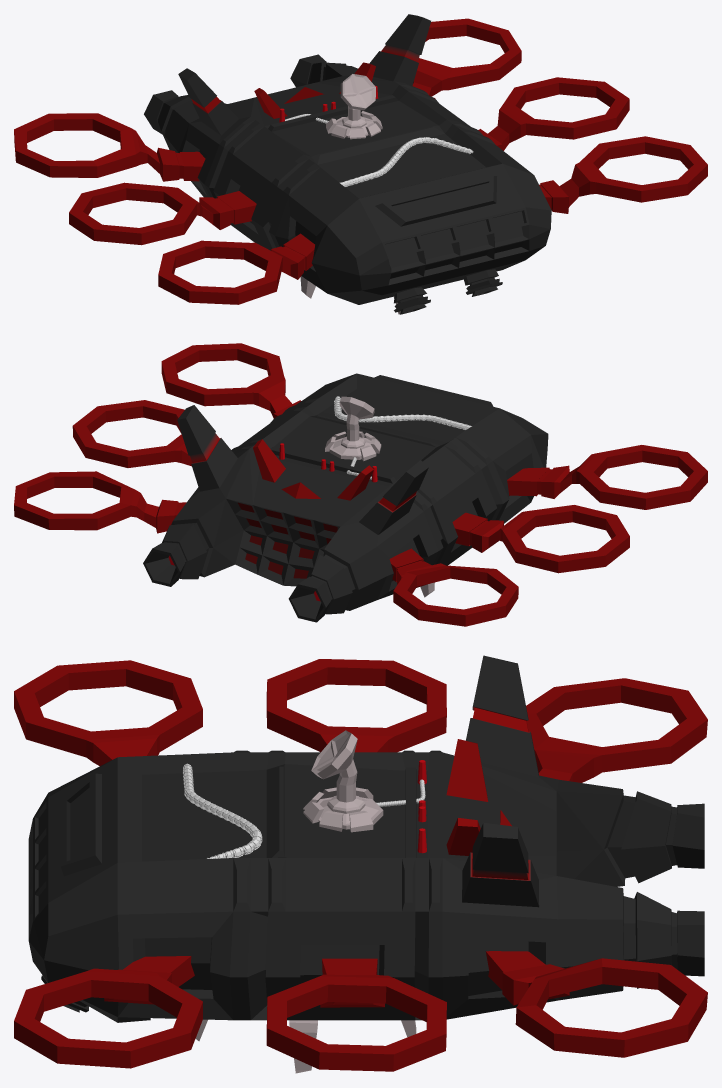
The model's file is Junk Drone.fbx.
3 renders of one model, top to bottom at view 1: azimuth 30°, elevation 25°; view 2: azimuth 150°, elevation 25°; view 3: azimuth 270°, elevation 25°, orthographic. The views are drawn at different scales.
Visible parts, largest first — view 1: Junk Drone, Cabel 2; view 2: Junk Drone, Cabel 2; view 3: Junk Drone, Cabel 2, Junk.
Boxes of the visible parts, x1,y1,x2,y2 form: Junk Drone: (14,14,707,314); Cabel 2: (339,137,473,186); Junk Drone: (14,343,707,626); Cabel 2: (334,396,471,430); Junk Drone: (14,655,707,1071); Cabel 2: (182,763,262,858); Junk: (195,1019,416,1073).
Size of the model in its own units: 10.13 by 3.66 by 7.55.
